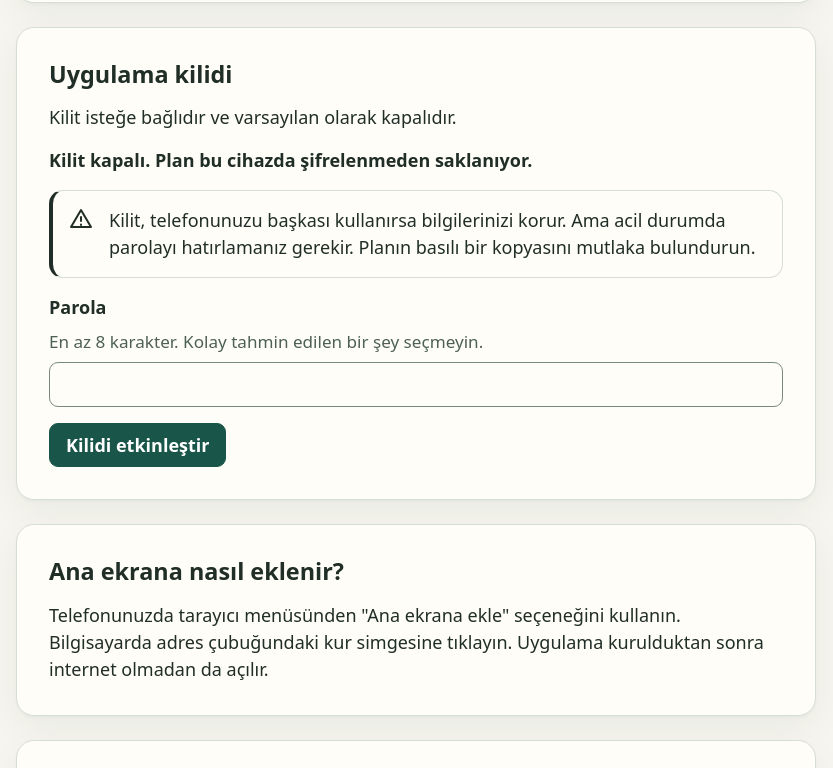
Settings — uygulama kilidi (§9.3) › 8 karakterden kısa parolayı reddeder
(page scrolled)
Type "kisa123" into the password field labelled "Parola" at (416, 385), box 49,362 -> 783,407
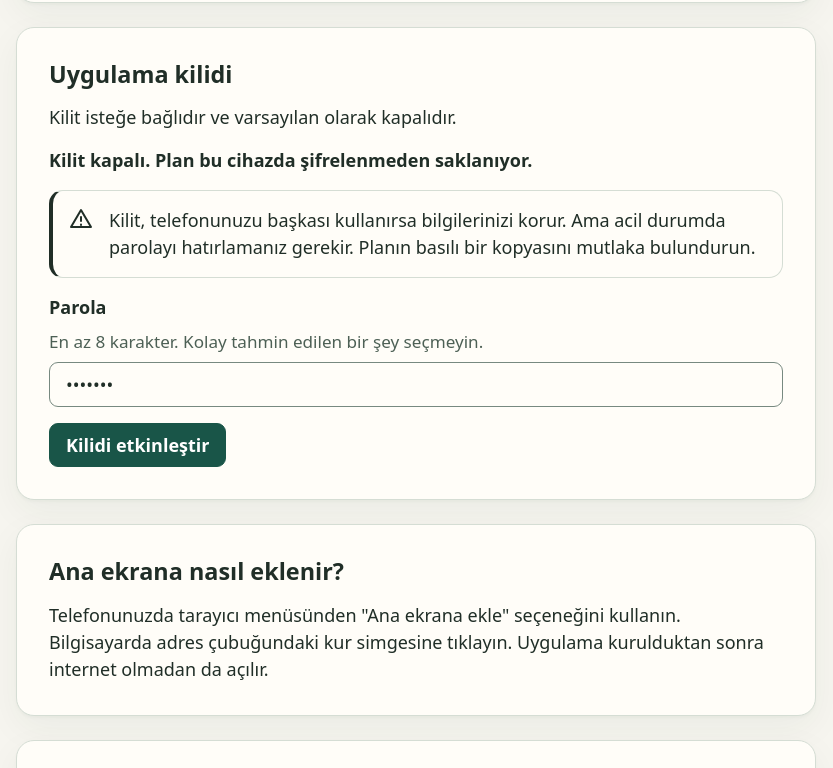
Click the button "Kilidi etkinleştir" at (138, 445), box 49,423 -> 226,467
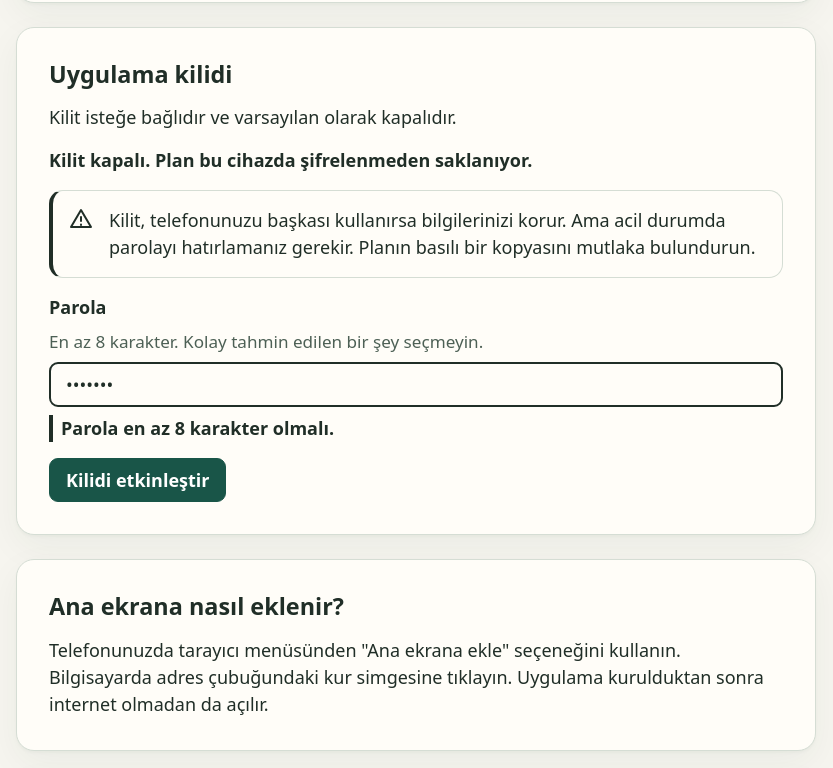
expect the text "Parola en az 8 karakter olmalı." is shown: met, box 49,415 -> 783,442
